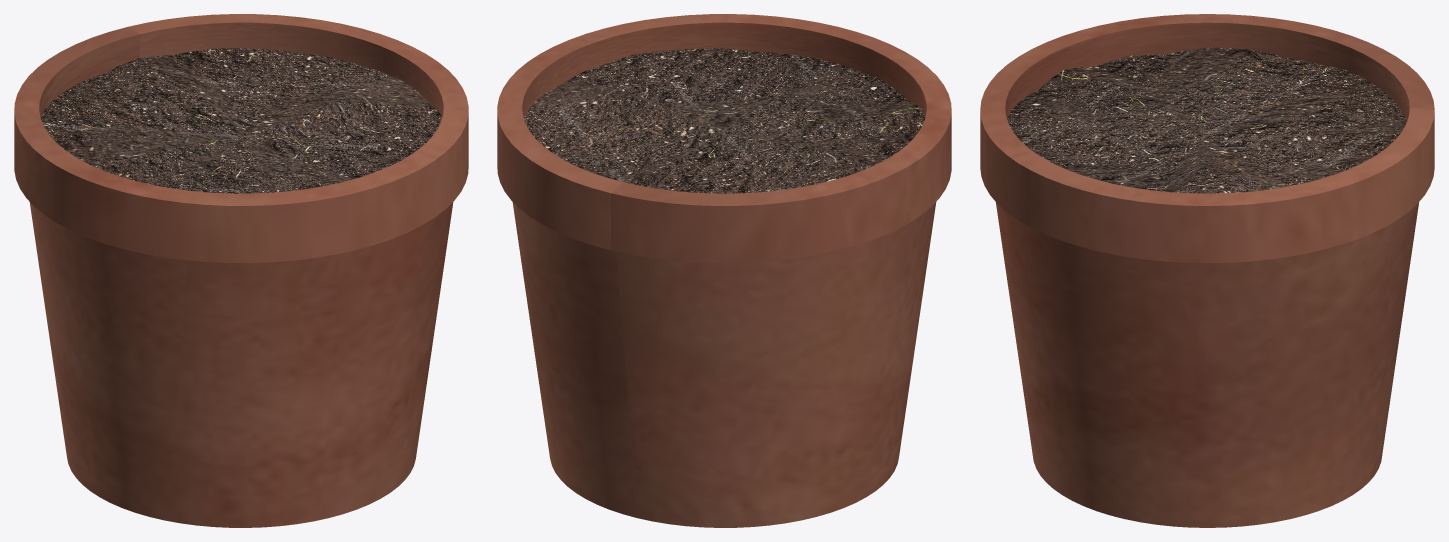
File: pot.obj
The picture shows the model from 3 angles, left to right: view 1: azimuth 30°, elevation 25°; view 2: azimuth 150°, elevation 25°; view 3: azimuth 270°, elevation 25°; orthographic projection.
Parts seen in each view (by area): view 1: Pot_Cylinder, Soil_Circle.004; view 2: Pot_Cylinder, Soil_Circle.004; view 3: Pot_Cylinder, Soil_Circle.004.
Part boxes in pixels (x1=…): Pot_Cylinder: x1=14, y1=14, x2=468, y2=527; Soil_Circle.004: x1=40, y1=48, x2=441, y2=193; Pot_Cylinder: x1=497, y1=14, x2=951, y2=527; Soil_Circle.004: x1=524, y1=48, x2=925, y2=193; Pot_Cylinder: x1=980, y1=14, x2=1434, y2=527; Soil_Circle.004: x1=1007, y1=47, x2=1407, y2=193.
Size of the model in its own units: 32.52 by 27.31 by 32.52.
Materials: 2 (2 with a texture image).
